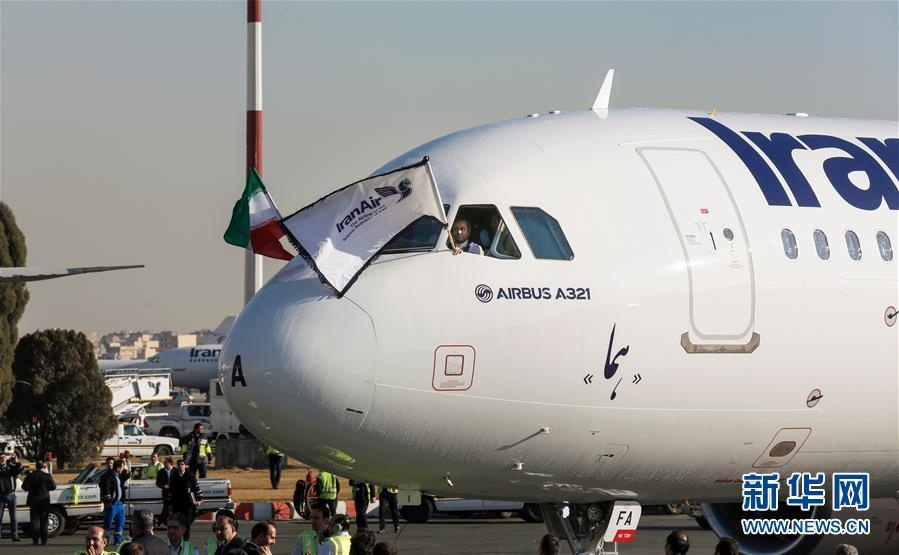airplane: (216, 91, 899, 503)
